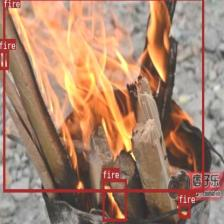fire: (2, 0, 204, 192), (102, 179, 126, 221), (178, 203, 190, 218), (0, 49, 8, 69)
